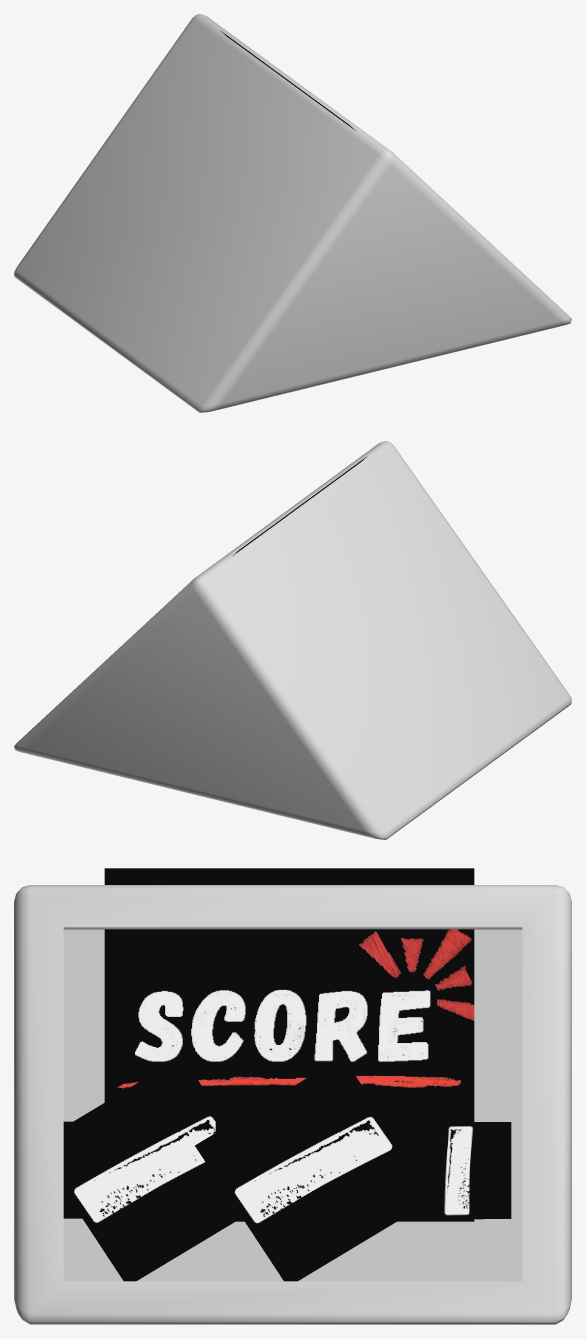
File: score chalkboard.fbx
3 renders of one model, top to bottom at view 1: azimuth 30°, elevation 25°; view 2: azimuth 150°, elevation 25°; view 3: azimuth 270°, elevation 25°, orthographic. The views are drawn at different scales.
Visible parts, largest first — view 1: score chalkboard; view 2: score chalkboard; view 3: score chalkboard, score, tally mark.009, tally mark.004, tally mark.011, tally mark.005.
Boxes of the visible parts, <box> form: score chalkboard: <box>14,14,571,412</box>; score chalkboard: <box>14,441,571,839</box>; score chalkboard: <box>14,885,571,1324</box>; score: <box>104,868,474,1221</box>; tally mark.009: <box>195,1056,435,1281</box>; tally mark.004: <box>63,1056,238,1281</box>; tally mark.011: <box>409,1122,511,1218</box>; tally mark.005: <box>215,1122,242,1219</box>.
Size of the model in its own units: 52.58 by 30.44 by 47.82.
